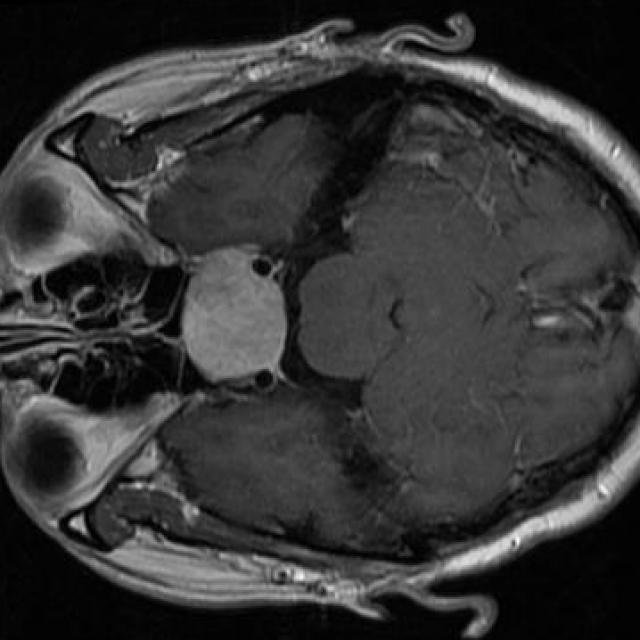pituitary: (180, 248, 289, 383)
